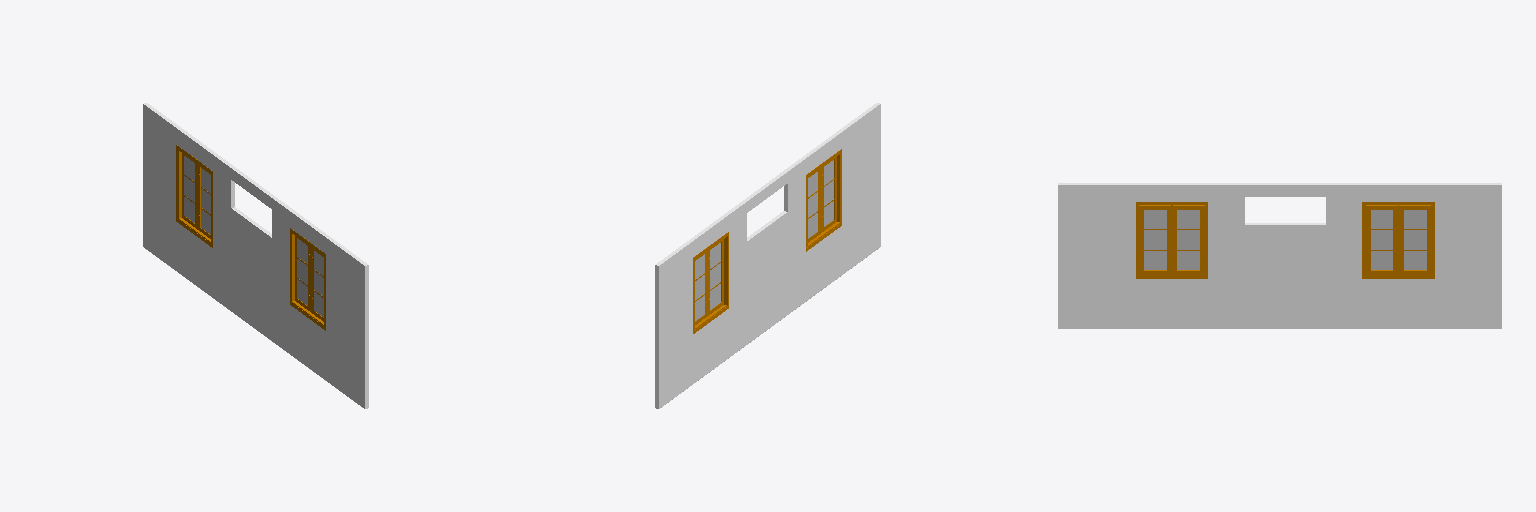
File: Atras.obj
The picture shows the model from 3 angles: view 1: azimuth 30°, elevation 25°; view 2: azimuth 150°, elevation 25°; view 3: azimuth 270°, elevation 25°; orthographic projection.
Parts seen in each view (by area): view 1: wall_1_5, CageIn_31, CageIn_11, sweethome3d_window_pane_on_hinge_1_39, sweethome3d_window_pane_on_hinge_1_19, sweethome3d_window_pane_on_hinge_2_47, sweethome3d_window_pane_on_hinge_2_27; view 2: wall_1_5, CageIn_11, CageIn_31, sweethome3d_window_pane_on_hinge_2_47, sweethome3d_window_pane_on_hinge_1_19, sweethome3d_window_pane_on_hinge_2_27, sweethome3d_window_pane_on_hinge_1_39; view 3: wall_1_4, sweethome3d_window_pane_on_hinge_1_19, sweethome3d_window_pane_on_hinge_2_27, sweethome3d_window_pane_on_hinge_1_39, sweethome3d_window_pane_on_hinge_2_47, CageOut_30, CageOut_10, sweethome3d_opening_on_hinge_2_out_43, sweethome3d_opening_on_hinge_1_out_35, sweethome3d_opening_on_hinge_1_out_15, sweethome3d_opening_on_hinge_2_out_23.
Part boxes in pixels (bbox=[...]): wall_1_5: bbox=[143, 104, 366, 408]; CageIn_31: bbox=[176, 145, 212, 247]; CageIn_11: bbox=[290, 228, 325, 330]; sweethome3d_window_pane_on_hinge_1_39: bbox=[184, 156, 194, 222]; sweethome3d_window_pane_on_hinge_1_19: bbox=[297, 238, 307, 305]; sweethome3d_window_pane_on_hinge_2_47: bbox=[201, 168, 210, 234]; sweethome3d_window_pane_on_hinge_2_27: bbox=[314, 251, 323, 317]; wall_1_5: bbox=[657, 104, 880, 408]; CageIn_11: bbox=[806, 149, 841, 251]; CageIn_31: bbox=[693, 232, 728, 333]; sweethome3d_window_pane_on_hinge_2_47: bbox=[710, 243, 720, 309]; sweethome3d_window_pane_on_hinge_1_19: bbox=[808, 172, 817, 238]; sweethome3d_window_pane_on_hinge_2_27: bbox=[824, 160, 833, 226]; sweethome3d_window_pane_on_hinge_1_39: bbox=[695, 254, 704, 320]; wall_1_4: bbox=[1058, 185, 1501, 328]; sweethome3d_window_pane_on_hinge_1_19: bbox=[1177, 210, 1199, 269]; sweethome3d_window_pane_on_hinge_2_27: bbox=[1144, 210, 1166, 269]; sweethome3d_window_pane_on_hinge_1_39: bbox=[1404, 210, 1426, 269]; sweethome3d_window_pane_on_hinge_2_47: bbox=[1371, 210, 1392, 269]; CageOut_30: bbox=[1362, 202, 1434, 278]; CageOut_10: bbox=[1136, 202, 1207, 278]; sweethome3d_opening_on_hinge_2_out_43: bbox=[1366, 205, 1397, 274]; sweethome3d_opening_on_hinge_1_out_35: bbox=[1399, 205, 1430, 274]; sweethome3d_opening_on_hinge_1_out_15: bbox=[1173, 205, 1204, 274]; sweethome3d_opening_on_hinge_2_out_23: bbox=[1139, 205, 1170, 274].
Bounding box in the file's own units: 7.8 × 250 × 702.